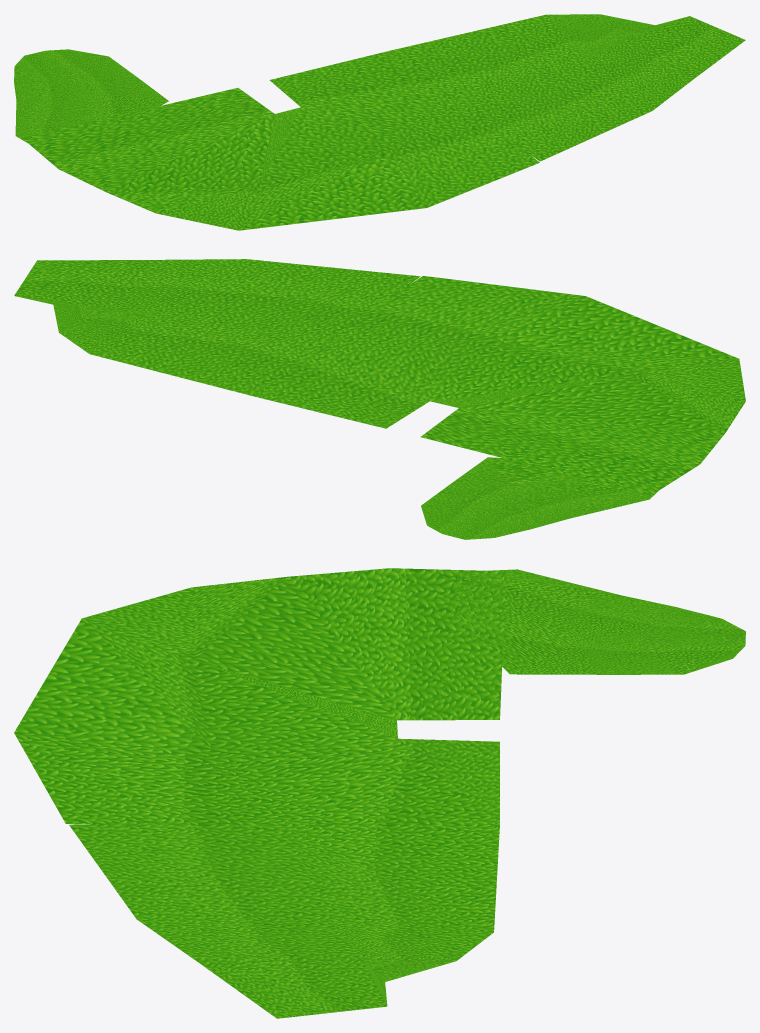
File: pasto_planofn.glb
The picture shows the model from 3 angles, top to bottom: view 1: azimuth 30°, elevation 25°; view 2: azimuth 150°, elevation 25°; view 3: azimuth 270°, elevation 25°; orthographic projection. The views are drawn at different scales.
Parts seen in each view (by area): view 1: pasto grande2, pasto grande3, pasto grande1; view 2: pasto grande2, pasto grande3, pasto grande1; view 3: pasto grande2, pasto grande3, pasto grande1.
Part boxes in pixels (x1=…): pasto grande2: x1=22, y1=50, x2=539, y2=230; pasto grande3: x1=389, y1=14, x2=745, y2=161; pasto grande1: x1=14, y1=49, x2=168, y2=142; pasto grande2: x1=254, y1=276, x2=745, y2=495; pasto grande3: x1=14, y1=259, x2=420, y2=396; pasto grande1: x1=421, y1=457, x2=666, y2=539; pasto grande2: x1=14, y1=568, x2=505, y2=824; pasto grande3: x1=69, y1=824, x2=499, y2=1018; pasto grande1: x1=451, y1=569, x2=745, y2=674.
Size of what is drawn, in the model's own units: 296 by 0 by 203.
3 materials, 3 textured.
